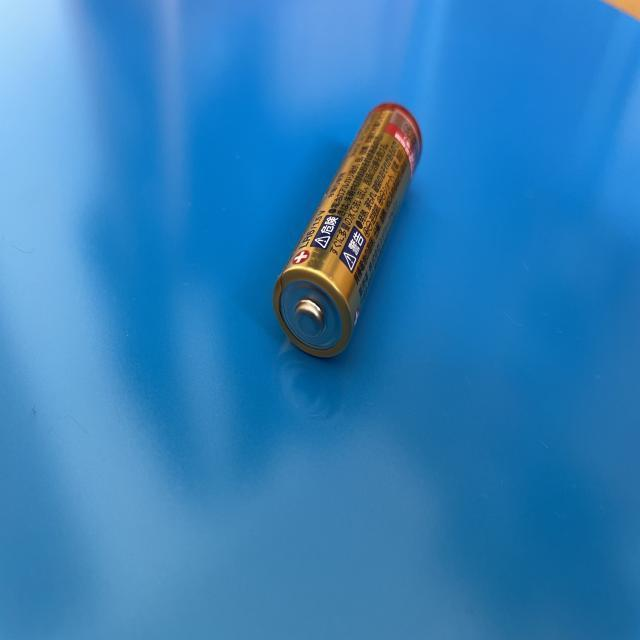AA: (268, 100, 426, 367)
